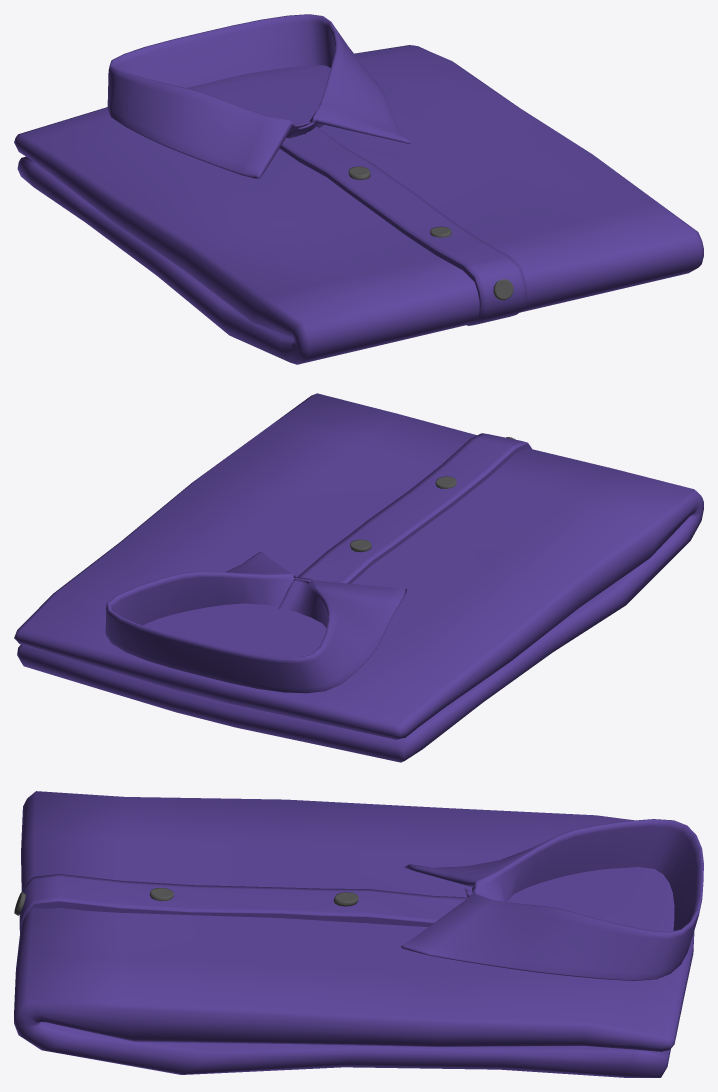
The model's file is Folded_Shirt01.fbx.
3 views of the same model, one above another, from view 1: azimuth 30°, elevation 25°; view 2: azimuth 150°, elevation 25°; view 3: azimuth 270°, elevation 25° (orthographic). The views are drawn at different scales.
Parts seen in each view (by area): view 1: Folded_Shirt01; view 2: Folded_Shirt01; view 3: Folded_Shirt01.
Boxes of the visible parts, bbox=[...] form: Folded_Shirt01: bbox=[14, 14, 703, 364]; Folded_Shirt01: bbox=[14, 393, 703, 762]; Folded_Shirt01: bbox=[14, 791, 703, 1077].
Size of the model in its own units: 25.01 by 5.51 by 33.26.
